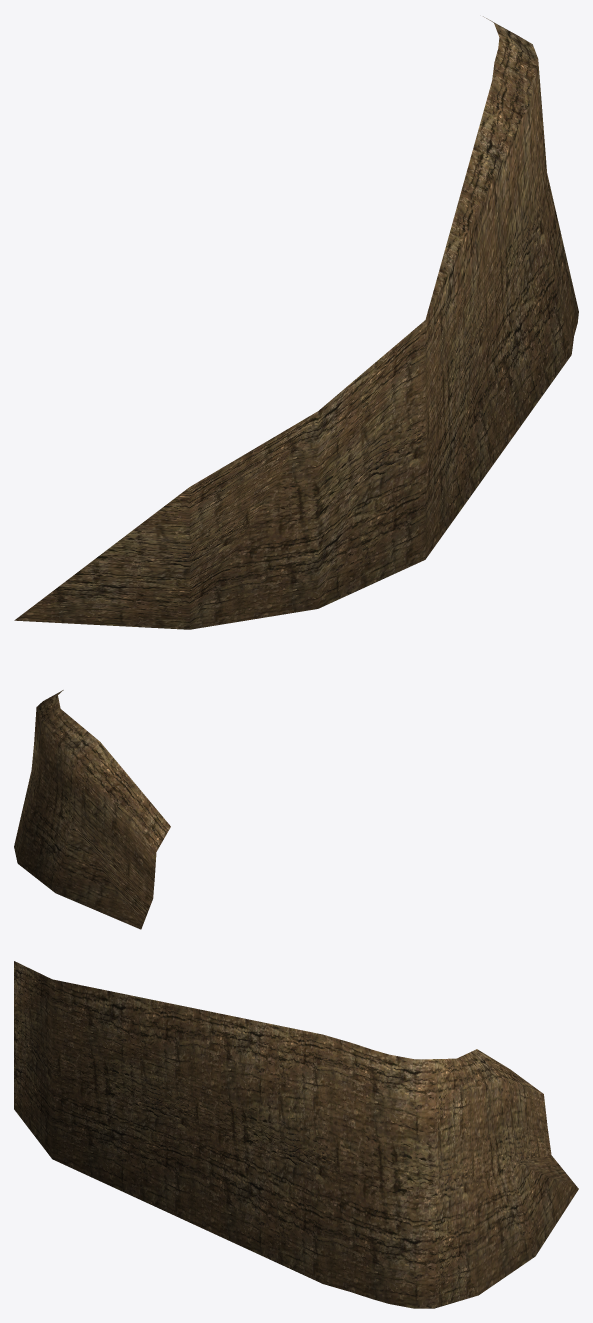
File: M12A_CS_CAMERA_FIX.glb
3 renders of one model, top to bottom at view 1: azimuth 30°, elevation 25°; view 2: azimuth 150°, elevation 25°; view 3: azimuth 270°, elevation 25°, orthographic. The views are drawn at different scales.
Visible parts, largest first — view 1: M12A_CS_CAMERA_FIX; view 2: M12A_CS_CAMERA_FIX; view 3: M12A_CS_CAMERA_FIX.
Part boxes in pixels (left/top/right/bottom): M12A_CS_CAMERA_FIX: left=14, top=16, right=578, bottom=629; M12A_CS_CAMERA_FIX: left=14, top=690, right=170, bottom=929; M12A_CS_CAMERA_FIX: left=14, top=961, right=578, bottom=1308.
Bounding box in the file's own units: 50.14 × 18.09 × 41.64.
1 material, 1 textured.
